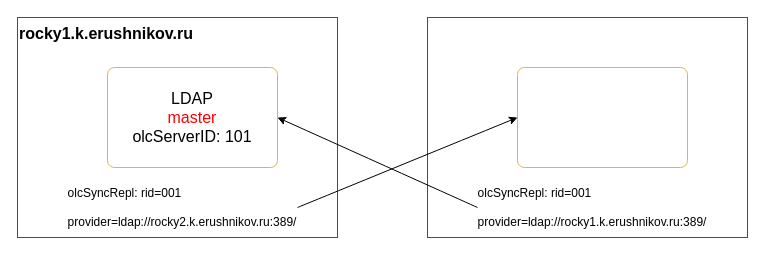
Some shapes in this 765 by 255 pixel diagram are drawn without their labels. Each missing label, with the box of its shape:
LDAP master olcServerID: 102: (516, 66, 688, 168)
rocky2.k.erushnikov.ru: (426, 16, 748, 238)
